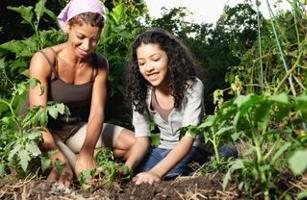person: (15, 1, 139, 186)
